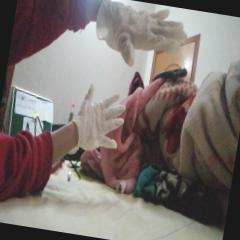gloved: (91, 0, 193, 75), (74, 82, 129, 151)
